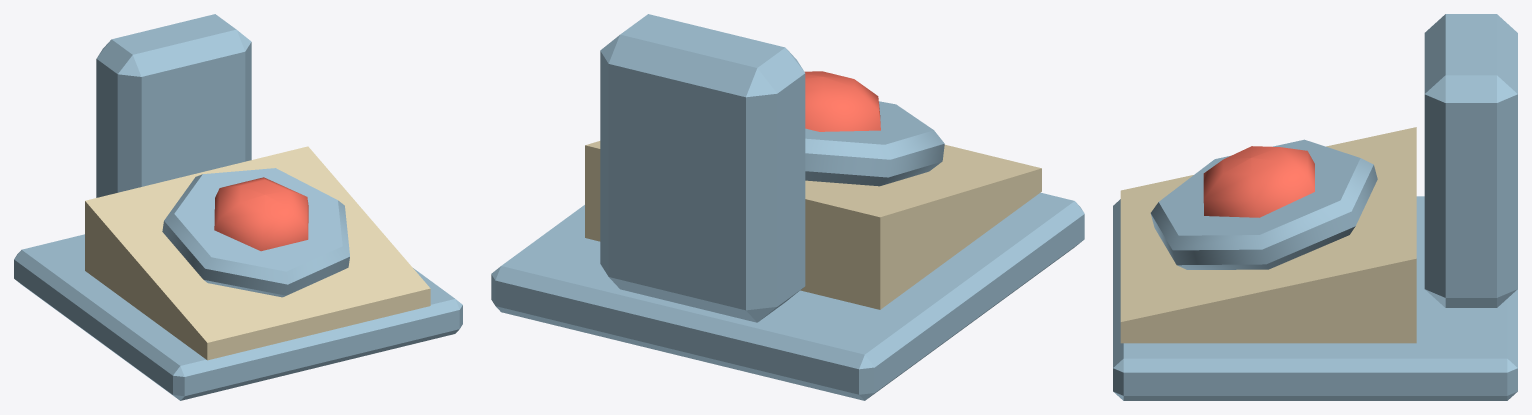
File: R4X_ExplosiveTrapDeployer_LOD1.glb
3 views of the same model, side by side, from view 1: azimuth 30°, elevation 25°; view 2: azimuth 150°, elevation 25°; view 3: azimuth 270°, elevation 25° (orthographic). The views are drawn at different scales.
Parts seen in each view (by area): view 1: R4X_ExplosiveTrapDeployer_LOD1; view 2: R4X_ExplosiveTrapDeployer_LOD1; view 3: R4X_ExplosiveTrapDeployer_LOD1.
Part boxes in pixels (x1,y1,x2,y2): R4X_ExplosiveTrapDeployer_LOD1: (14, 14, 462, 400); R4X_ExplosiveTrapDeployer_LOD1: (491, 14, 1084, 400); R4X_ExplosiveTrapDeployer_LOD1: (1113, 14, 1517, 400).
Bounding box in the file's own units: 0.52 × 0.39 × 0.52.
